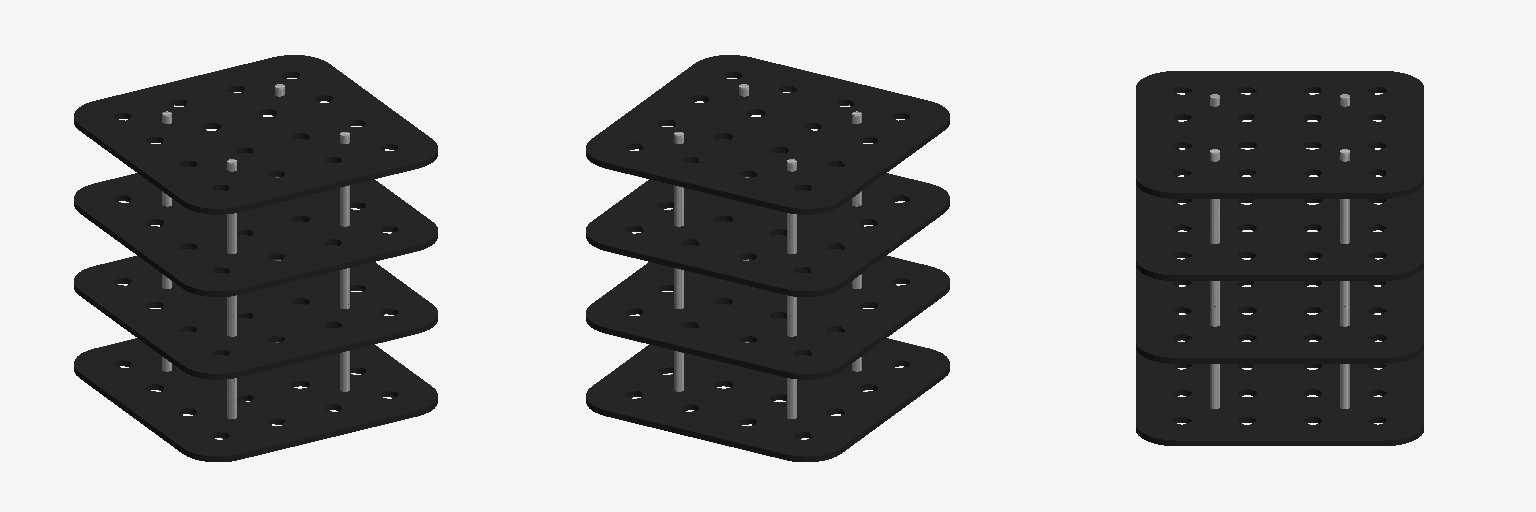
3 views of the same model, side by side, from view 1: azimuth 30°, elevation 25°; view 2: azimuth 150°, elevation 25°; view 3: azimuth 270°, elevation 25° (orthographic).
Visible parts, largest first — view 1: faces3_Cube.000, faces1_Cube.003, faces2_Cube.002, faces0_Cube.004, supports_Cylinder; view 2: faces3_Cube.000, faces1_Cube.003, faces2_Cube.002, faces0_Cube.004, supports_Cylinder; view 3: faces3_Cube.000, faces1_Cube.003, faces0_Cube.004, faces2_Cube.002, supports_Cylinder.
Boxes of the visible parts, box(x1,y1,x2,y2) form: faces3_Cube.000: box(74, 55, 437, 214); faces1_Cube.003: box(74, 221, 437, 379); faces2_Cube.002: box(74, 139, 437, 296); faces0_Cube.004: box(74, 304, 437, 461); supports_Cylinder: box(162, 84, 349, 418); faces3_Cube.000: box(586, 55, 949, 214); faces1_Cube.003: box(586, 221, 949, 379); faces2_Cube.002: box(586, 139, 949, 296); faces0_Cube.004: box(586, 304, 949, 461); supports_Cylinder: box(674, 84, 861, 418); faces3_Cube.000: box(1136, 71, 1423, 198); faces1_Cube.003: box(1136, 258, 1423, 363); faces0_Cube.004: box(1136, 340, 1423, 445); faces2_Cube.002: box(1136, 175, 1423, 280); supports_Cylinder: box(1210, 94, 1349, 408).
Size of the model in its own units: 22.2 by 22.45 by 22.2.
Materials: 2 (1 with a texture image).